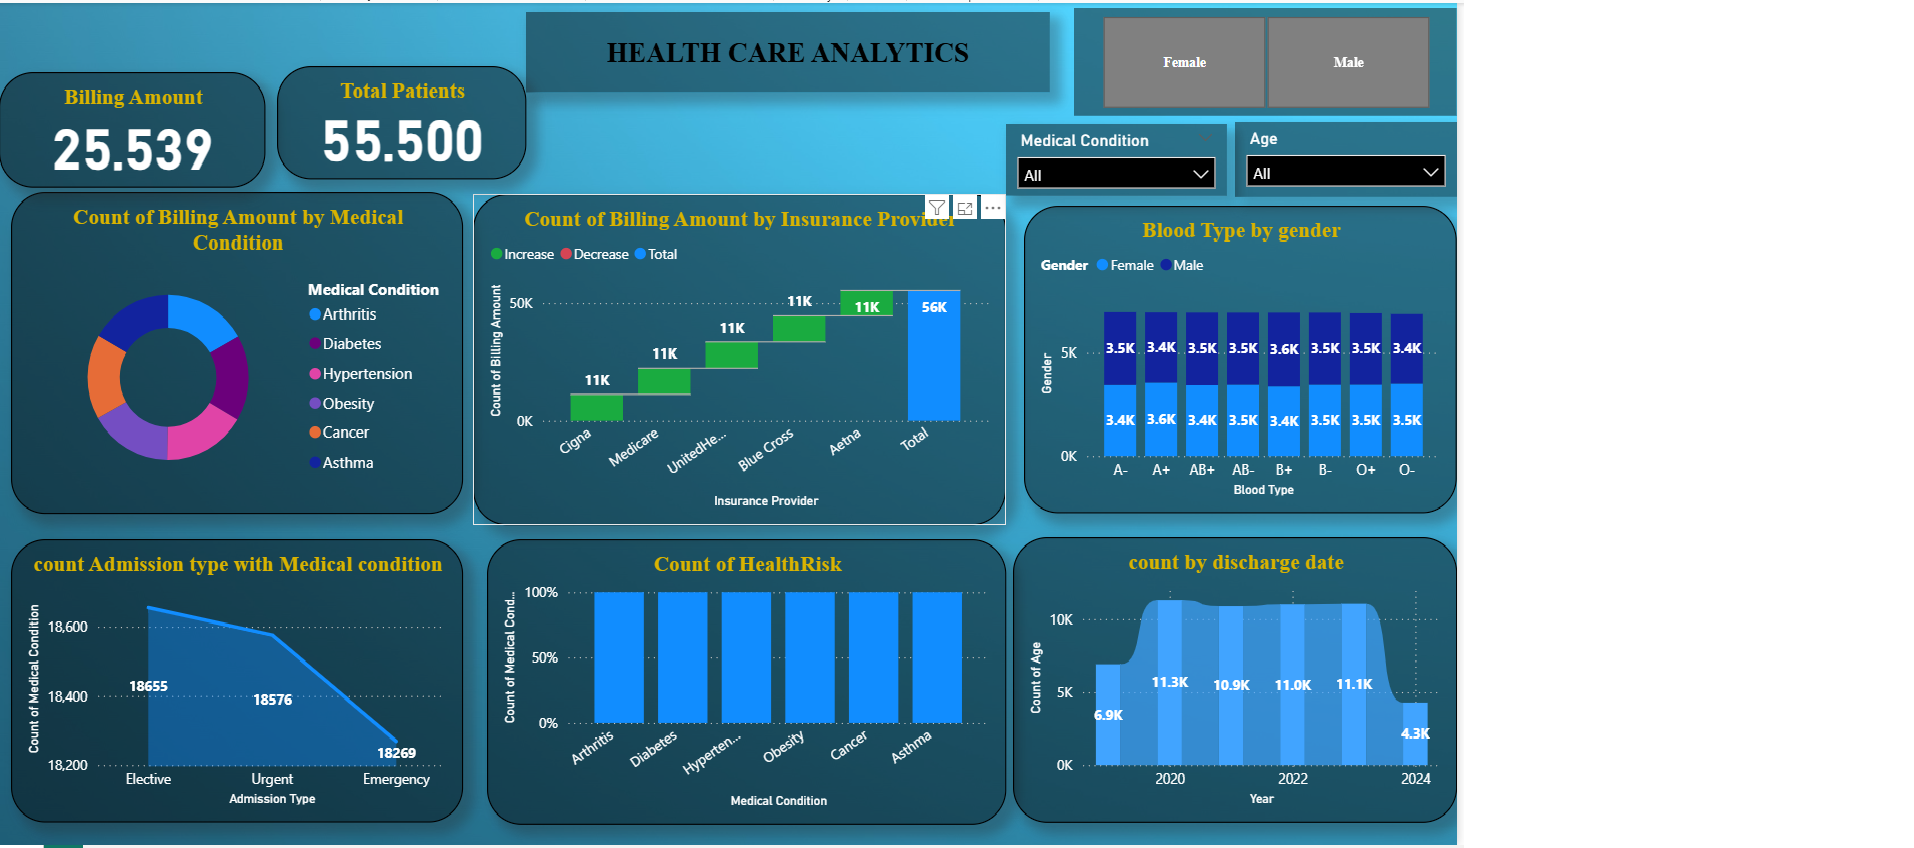

The page's visual inventory and layout, read from the dashboard file:
{"tool":"powerbi","page":{"name":"Page 1","canvas":[1280,720],"ordinal":0},"visuals":[{"type":"hundredPercentStackedColumnChart","title":"Count of HealthRisk","fields":{"Category":["healthcare_dataset.Medical Condition"],"Y":["healthcare_dataset.Medical Condition"]},"box":[428.5,458.3,455.7,244.1],"z":1000},{"type":"stackedAreaChart","title":"count Admission type with Medical condition","fields":{"Category":["healthcare_dataset.Admission Type"],"Y":["healthcare_dataset.Medical Condition"]},"box":[10.5,458.3,396.9,242.3],"z":2000},{"type":"donutChart","fields":{"Category":["healthcare_dataset.Medical Condition"],"Y":["healthcare_dataset.Billing Amount"]},"box":[10.5,161.6,396.9,274.8],"z":3000},{"type":"waterfallChart","fields":{"Category":["healthcare_dataset.Insurance Provider"],"Y":["healthcare_dataset.Billing Amount"]},"box":[416.2,163.3,468,282.7],"z":4000},{"type":"ribbonChart","title":"count by discharge date","fields":{"Category":["healthcare_dataset.Discharge Date.Variation.Date Hierarchy.Year","healthcare_dataset.Discharge Date.Variation.Date Hierarchy.Quarter","healthcare_dataset.Discharge Date.Variation.Date Hierarchy.Month","healthcare_dataset.Discharge Date.Variation.Date Hierarchy.Day"],"Y":["healthcare_dataset.Age"]},"box":[890.3,456.6,389.9,244.1],"z":5000},{"type":"textbox","box":[462.7,7,460.1,69.4],"z":6000},{"type":"card","title":"Billing Amount","fields":{"Values":["healthcare_dataset.Billing Amount"]},"box":[0,58.8,234.4,99.2],"z":7000},{"type":"card","title":"Total Patients","fields":{"Values":["healthcare_dataset.Name"]},"box":[244.1,53.6,218.6,96.6],"z":8000},{"type":"columnChart","title":"Blood Type by gender","fields":{"Category":["healthcare_dataset.Blood Type"],"Y":["healthcare_dataset.Gender"],"Series":["healthcare_dataset.Gender"]},"box":[900,173,380.2,263.4],"z":9000},{"type":"slicer","fields":{"Values":["healthcare_dataset.Gender"]},"box":[943.9,4.4,336.3,92.2],"z":10000},{"type":"slicer","fields":{"Values":["healthcare_dataset.Medical Condition"]},"box":[884.2,103.6,194,60.6],"z":11000},{"type":"slicer","fields":{"Values":["healthcare_dataset.Age"]},"box":[1085.3,101.9,194.9,64.1],"z":12000}]}

Visuals, with their boxes in screenshot pixels (x1, y1, x2, y2):
"Count of HealthRisk" hundredPercentStackedColumnChart: select_region(904, 546, 1453, 840)
"count Admission type with Medical condition" stackedAreaChart: select_region(401, 546, 879, 838)
donutChart - healthcare_dataset.Medical Condition x healthcare_dataset.Billing Amount: select_region(401, 189, 879, 520)
waterfallChart - healthcare_dataset.Insurance Provider x healthcare_dataset.Billing Amount: select_region(890, 192, 1453, 532)
"count by discharge date" ribbonChart: select_region(1460, 544, 1913, 838)
textbox: select_region(946, 3, 1499, 87)
"Billing Amount" card: select_region(389, 66, 671, 185)
"Total Patients" card: select_region(682, 60, 946, 176)
"Blood Type by gender" columnChart: select_region(1472, 203, 1913, 520)
slicer - healthcare_dataset.Gender: select_region(1525, 0, 1913, 111)
slicer - healthcare_dataset.Medical Condition: select_region(1453, 120, 1686, 193)
slicer - healthcare_dataset.Age: select_region(1695, 118, 1913, 195)
